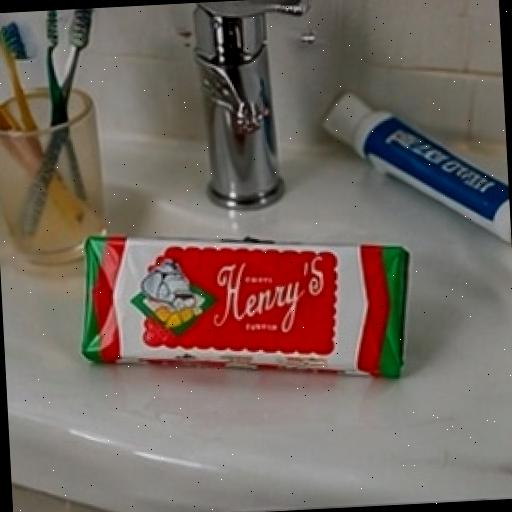henry-s: (40, 176, 410, 445)
